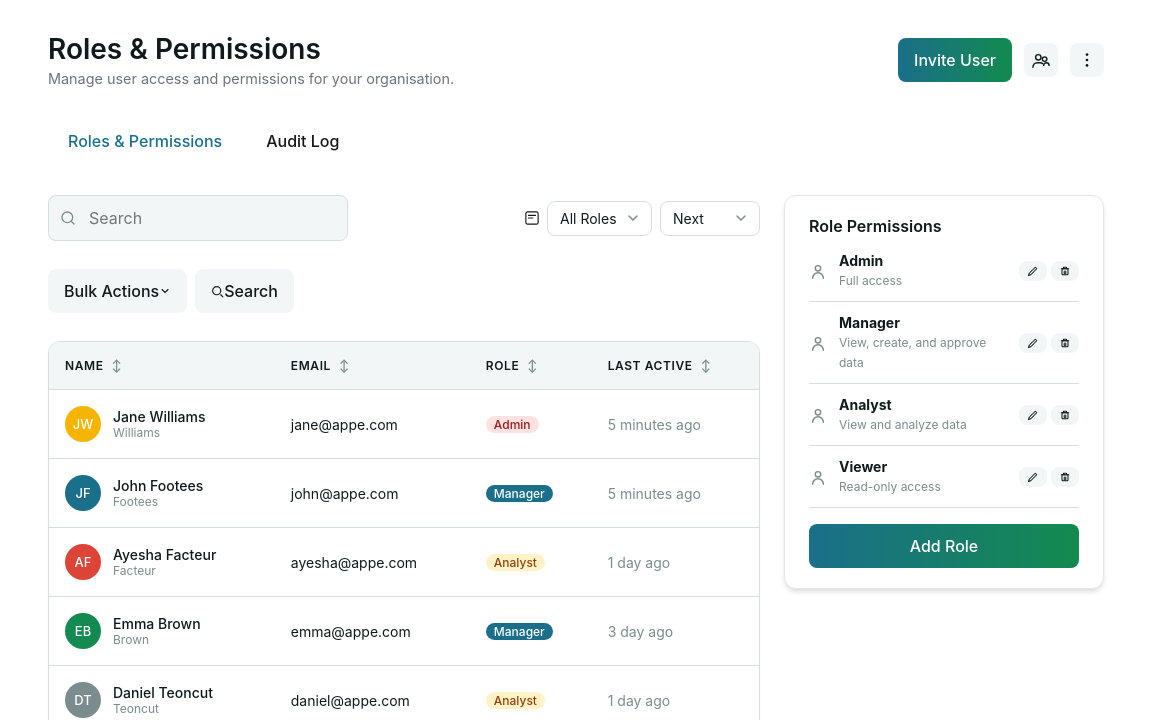
Test: RolesPage › opens invite modal when Invite User is clicked
The image size is (1152, 720).
Click the button with test id "invite-user-btn": (955, 60) [898,38,1012,82]
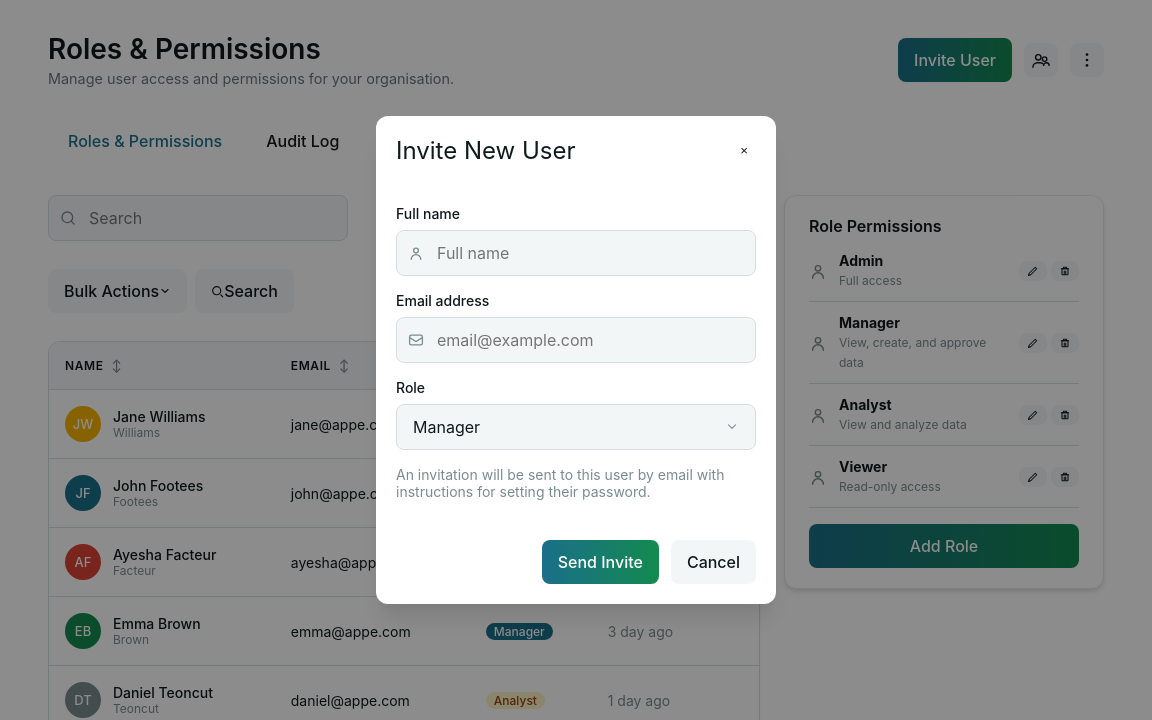
Result: the dialog with test id "invite-modal" is shown
